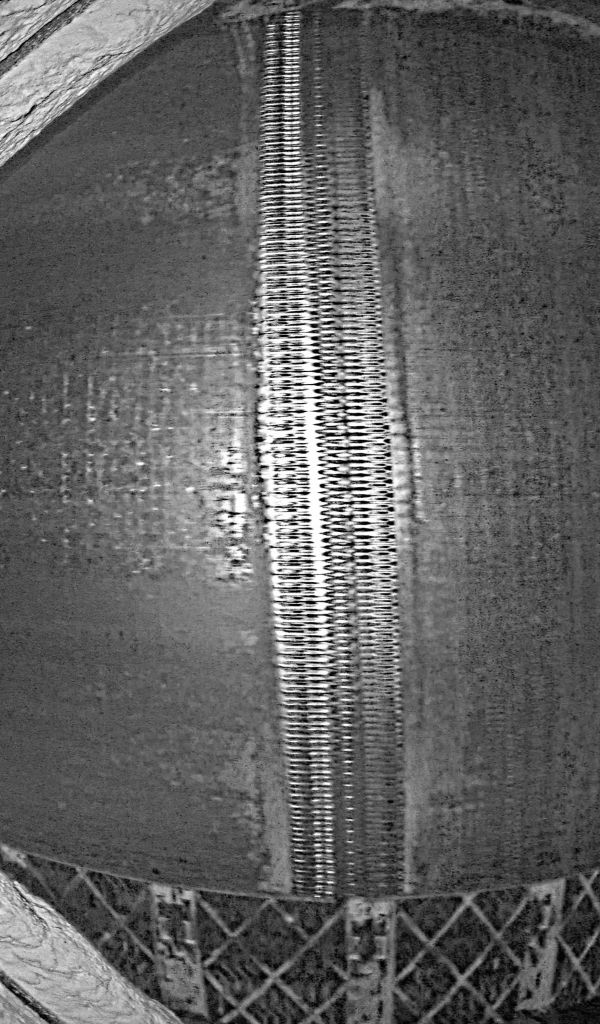splice: (237, 1, 416, 904)
